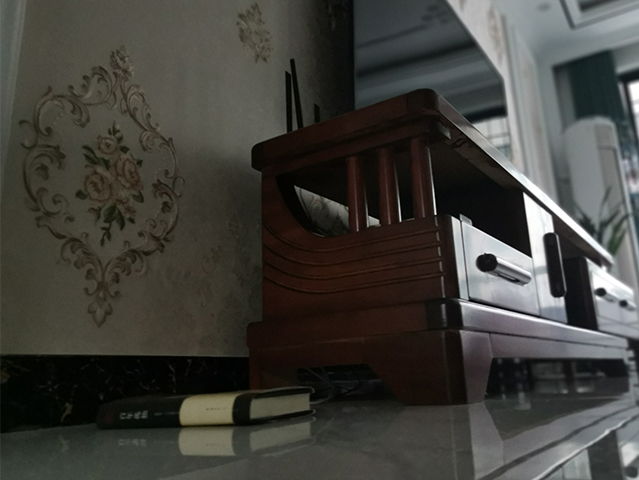book: (93, 385, 315, 431)
cabinet: (247, 86, 639, 409)
wire: (297, 365, 378, 406)
